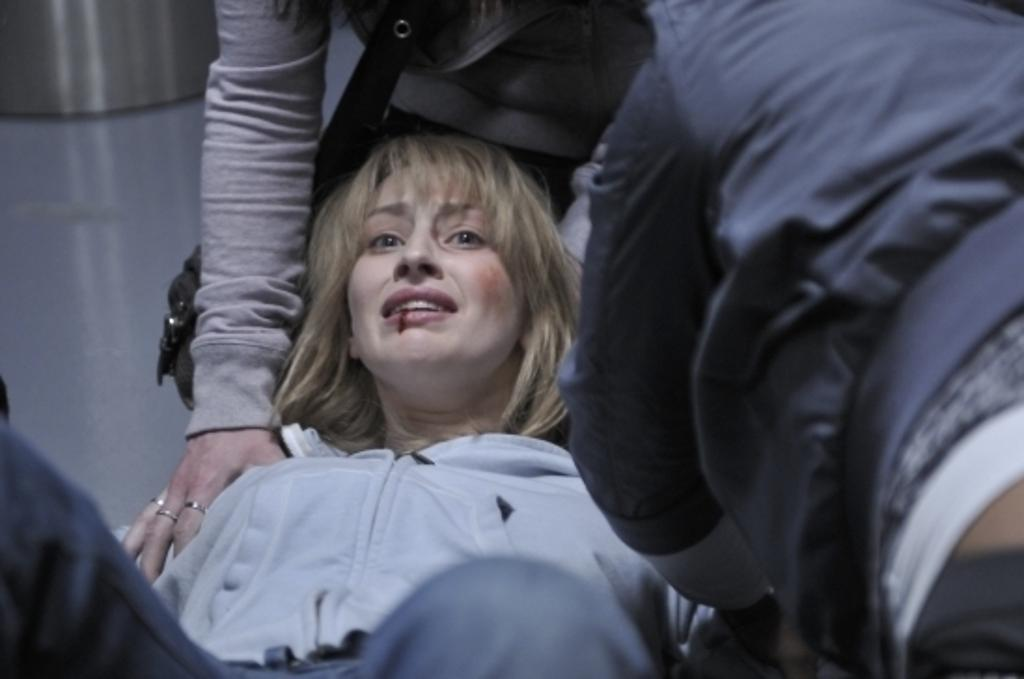face: (347, 181, 527, 361)
